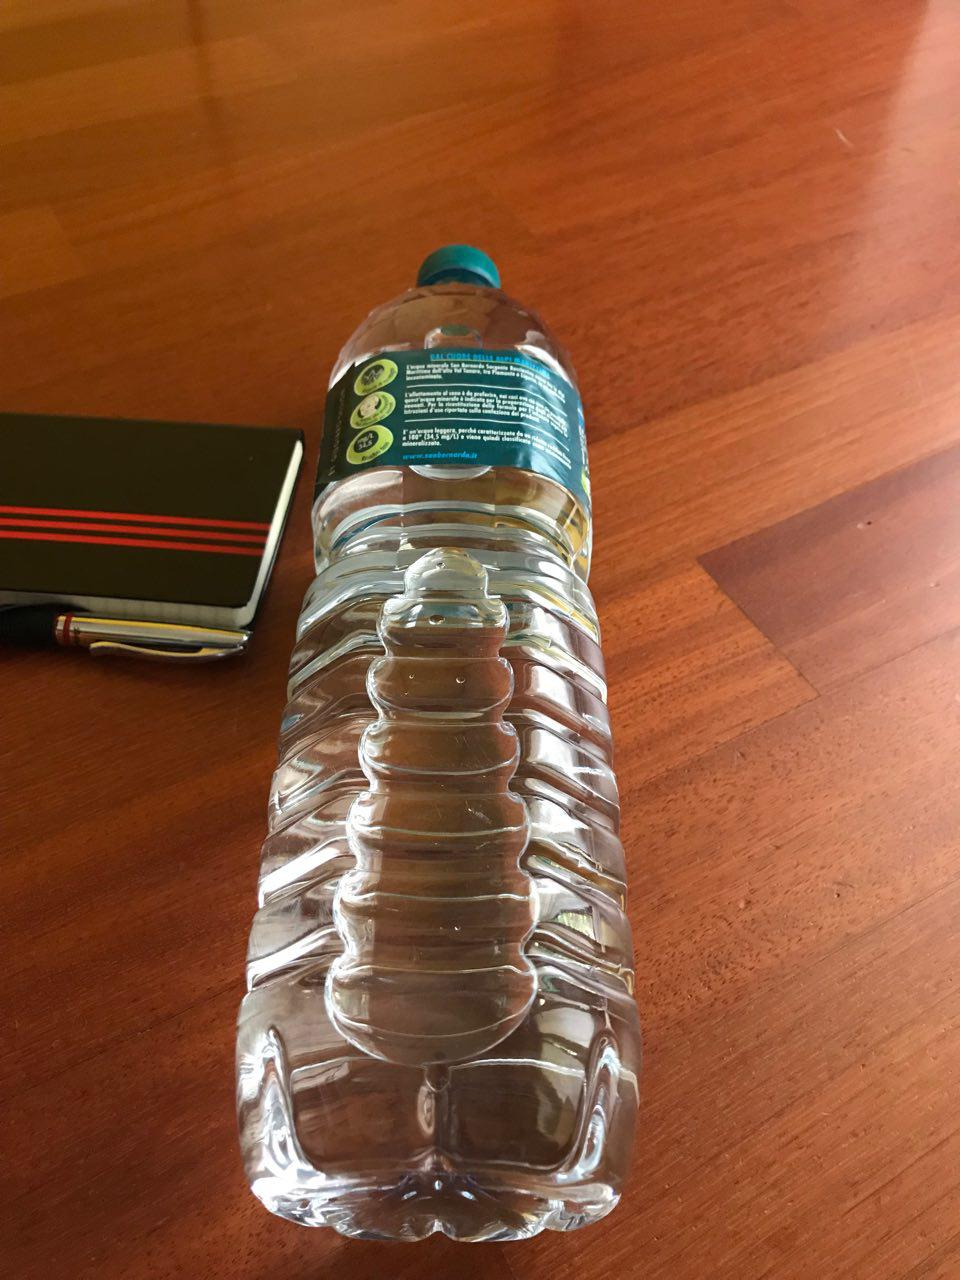san_bernardo: (232, 241, 645, 1250)
